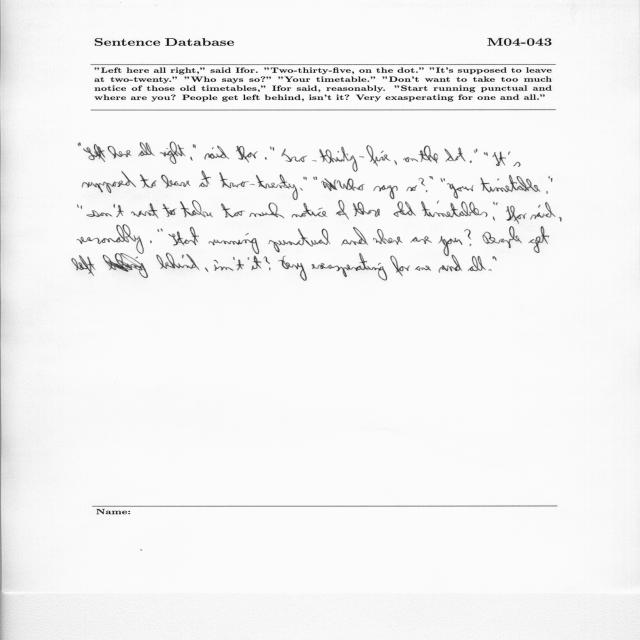word: (220, 172, 338, 200), (282, 145, 391, 172), (312, 253, 387, 281), (77, 224, 144, 254), (72, 253, 148, 278), (268, 229, 330, 253), (82, 171, 136, 193), (421, 201, 487, 218), (481, 175, 541, 193), (209, 233, 259, 254), (483, 226, 522, 248), (157, 253, 200, 270), (160, 142, 193, 164), (278, 256, 307, 281), (443, 179, 473, 199), (180, 200, 213, 218), (193, 144, 230, 160), (80, 204, 124, 217), (169, 227, 199, 246), (529, 226, 550, 253), (78, 142, 105, 162), (292, 203, 328, 218), (250, 203, 285, 218), (341, 227, 368, 245), (373, 229, 403, 245), (438, 236, 462, 256), (530, 202, 556, 220), (439, 255, 463, 273), (214, 257, 244, 271), (390, 256, 410, 277), (131, 203, 158, 218), (353, 202, 380, 217), (161, 175, 190, 188), (236, 146, 258, 163), (393, 201, 416, 217), (337, 178, 365, 191), (418, 146, 438, 164), (221, 203, 245, 218), (506, 206, 526, 224), (373, 185, 398, 199), (445, 147, 466, 162), (108, 146, 132, 159), (468, 256, 486, 271), (336, 200, 349, 220), (138, 142, 155, 156), (140, 174, 156, 188), (248, 256, 262, 271), (508, 151, 521, 167), (492, 152, 506, 166), (199, 171, 211, 187), (163, 204, 177, 217), (411, 236, 432, 244), (419, 178, 428, 192), (465, 230, 472, 247), (265, 146, 272, 160), (415, 265, 431, 271), (264, 257, 270, 271), (403, 157, 418, 162), (407, 185, 418, 191), (549, 176, 553, 182), (493, 256, 497, 261), (157, 229, 163, 232), (484, 152, 488, 156), (429, 176, 433, 180), (205, 268, 209, 272), (394, 160, 397, 165), (493, 202, 498, 205), (474, 149, 477, 153), (440, 178, 443, 182), (559, 217, 561, 222), (273, 147, 275, 151), (77, 204, 79, 208), (493, 217, 495, 221), (488, 269, 492, 271), (470, 160, 472, 163), (546, 191, 548, 194), (150, 240, 152, 243), (212, 147, 214, 149)
